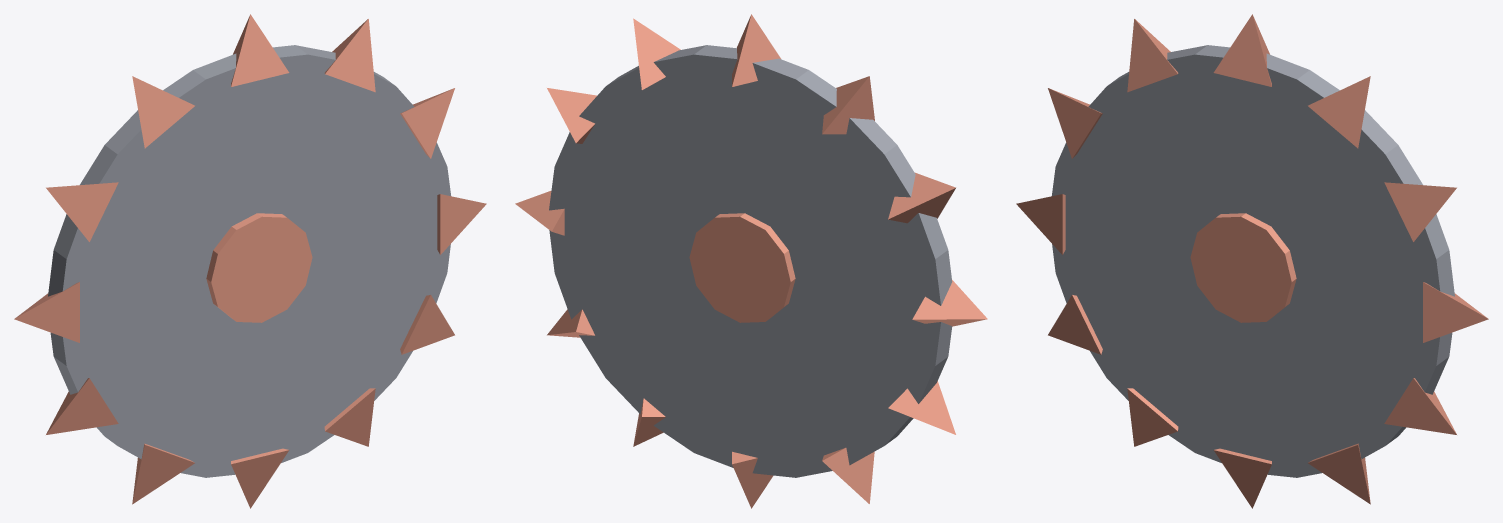
The model's file is Trap_Serra.fbx.
3 renders of one model, left to right at view 1: azimuth 30°, elevation 25°; view 2: azimuth 150°, elevation 25°; view 3: azimuth 330°, elevation 25°, orthographic.
Parts seen in each view (by area): view 1: Trap_Serra; view 2: Trap_Serra; view 3: Trap_Serra.
Boxes of the visible parts, bbox=[...] form: Trap_Serra: bbox=[14, 14, 486, 508]; Trap_Serra: bbox=[515, 14, 987, 508]; Trap_Serra: bbox=[1016, 14, 1488, 508].
Size of the model in its own units: 1.68 by 1.68 by 0.19.
